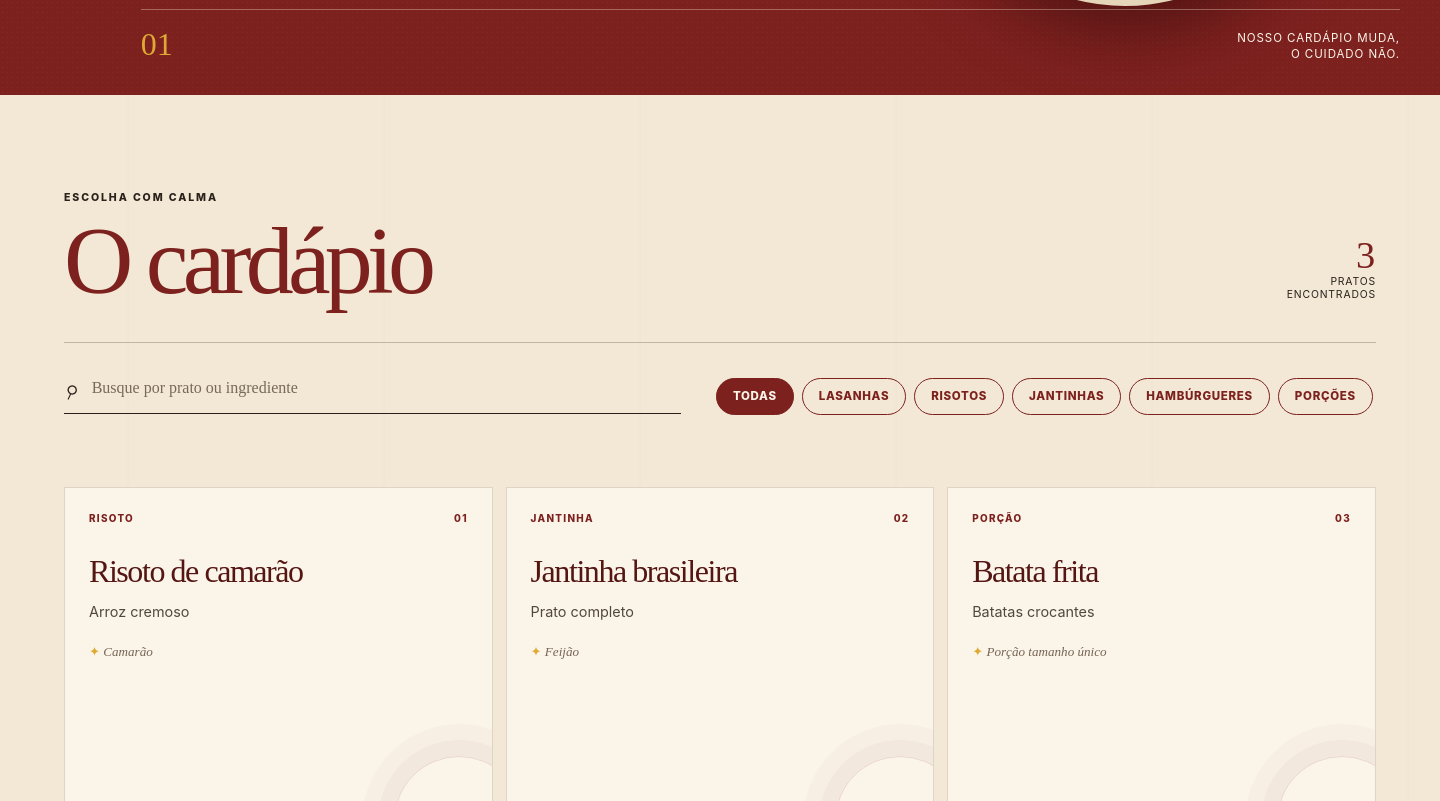
App › mostra uma grade única e filtra por porções
The image size is (1440, 801).
(page scrolled)
Expected: the heading "Risoto de camarão" is shown, [89,556,313,587]
Expected: the heading "Jantinha brasileira" is shown, [531,556,755,587]
Click the button "Porções". click: (1325, 396)
box: [1278,378,1373,415]
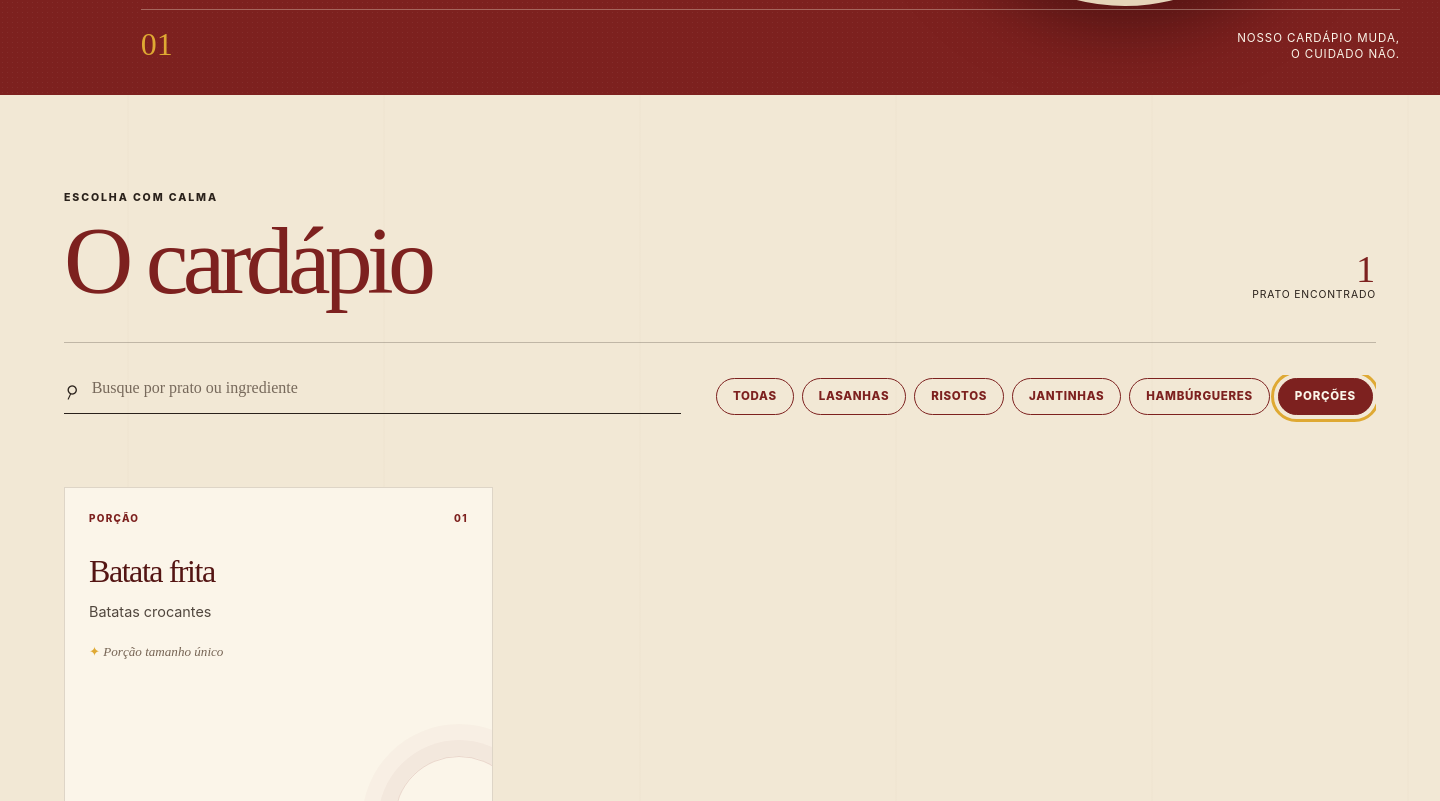
Expected: the heading "Batata frita" is shown, [89,553,215,589]
Expected: the heading "Risoto de camarão" is gone
